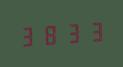eight: (39, 21, 59, 47)
three: (81, 18, 101, 44), (18, 23, 38, 48), (60, 20, 80, 45)
